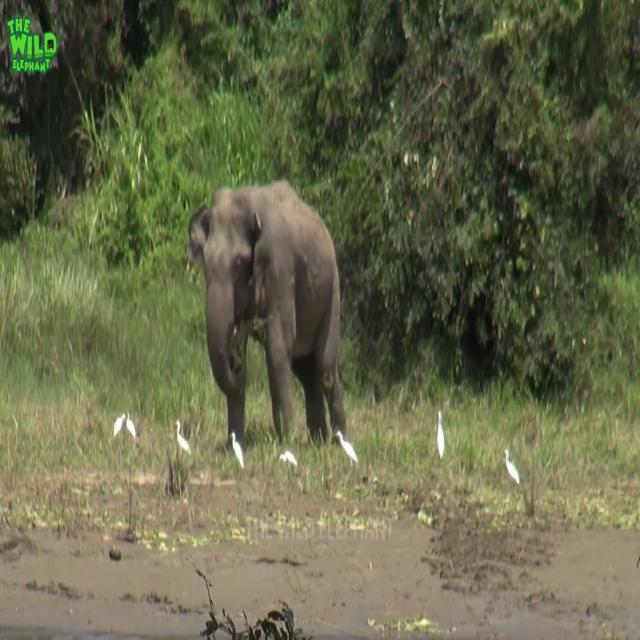Elephant: (186, 178, 348, 454)
